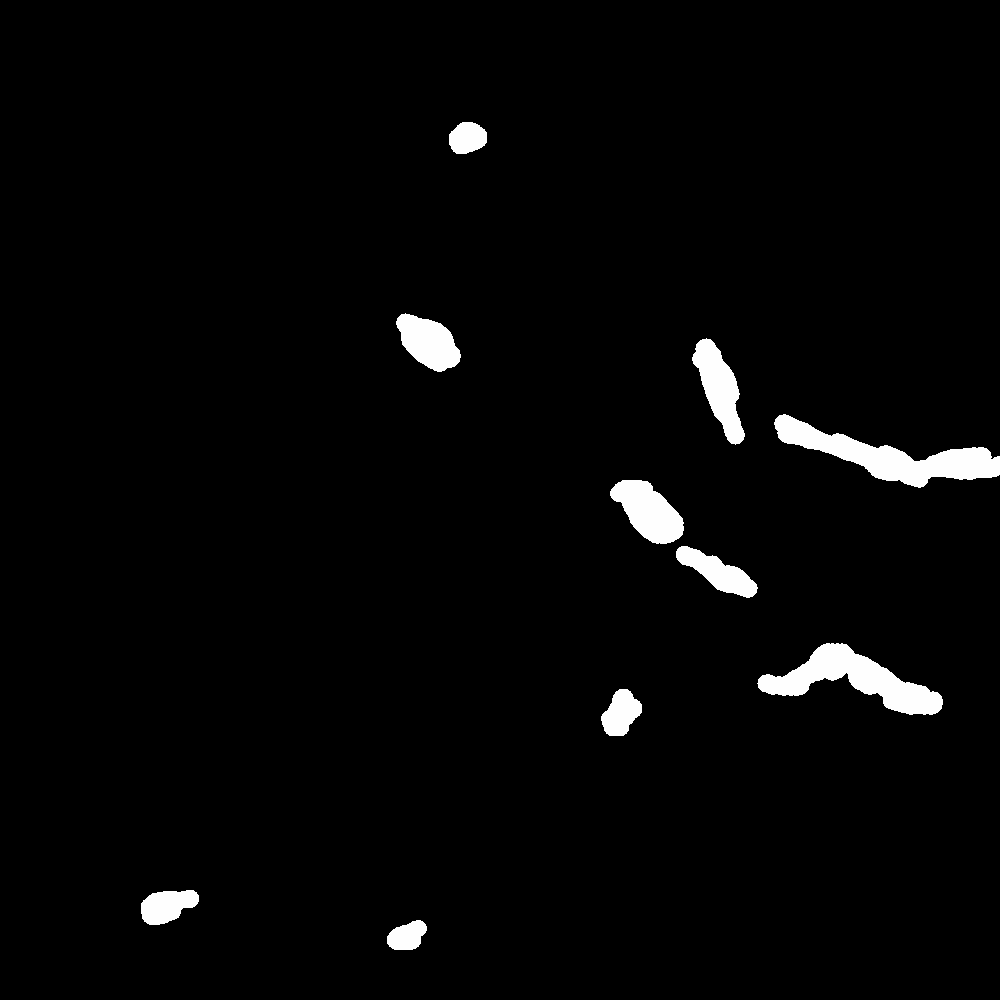illegal: (683, 632, 950, 721), (611, 470, 752, 601), (647, 280, 749, 441), (769, 419, 979, 489)
